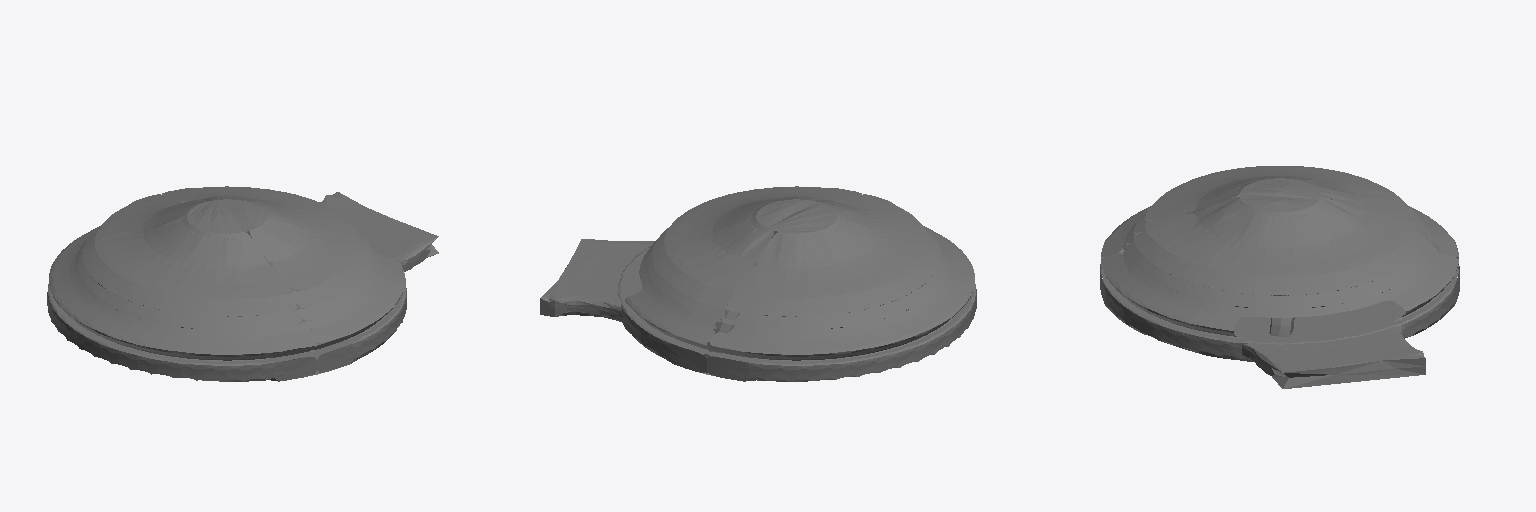
File: CloneFactory_Base)02.obj
3 renders of one model, left to right at view 1: azimuth 30°, elevation 25°; view 2: azimuth 150°, elevation 25°; view 3: azimuth 270°, elevation 25°, orthographic.
Parts seen in each view (by area): view 1: CloneFactory_Base)02.obj; view 2: CloneFactory_Base)02.obj; view 3: CloneFactory_Base)02.obj.
Part boxes in pixels (bbox=[...]): CloneFactory_Base)02.obj: bbox=[47, 186, 438, 381]; CloneFactory_Base)02.obj: bbox=[540, 186, 976, 381]; CloneFactory_Base)02.obj: bbox=[1100, 166, 1459, 388].
Size of the model in its own units: 1171 by 296 by 990.